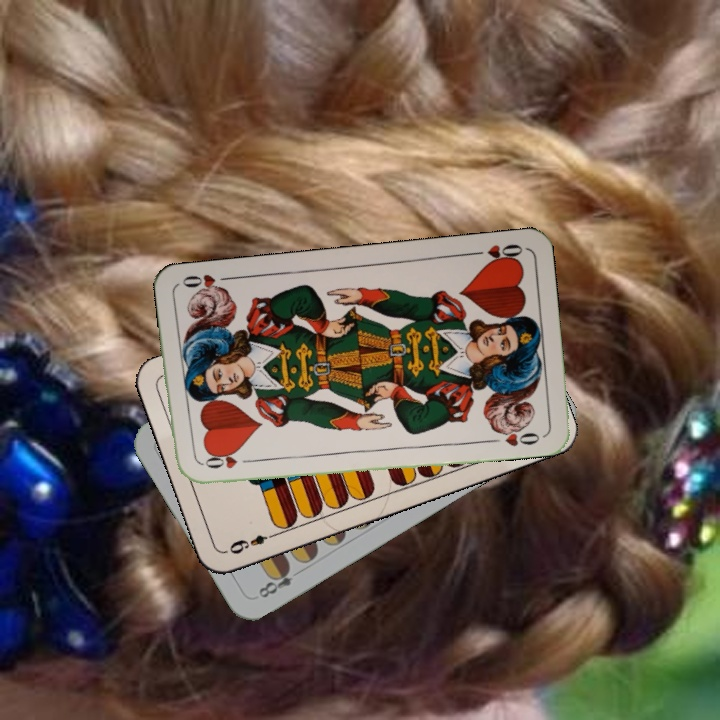E8: (254, 561, 295, 601)
E9: (225, 529, 280, 557)
HO: (467, 240, 525, 267), (197, 452, 256, 472)
